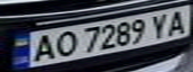2: (100, 21, 121, 51)
7: (78, 25, 103, 54)
8: (115, 19, 136, 47)
9: (127, 16, 151, 44)
A: (27, 32, 60, 63), (163, 7, 190, 36)
O: (48, 28, 81, 58)
Y: (145, 11, 175, 38)
